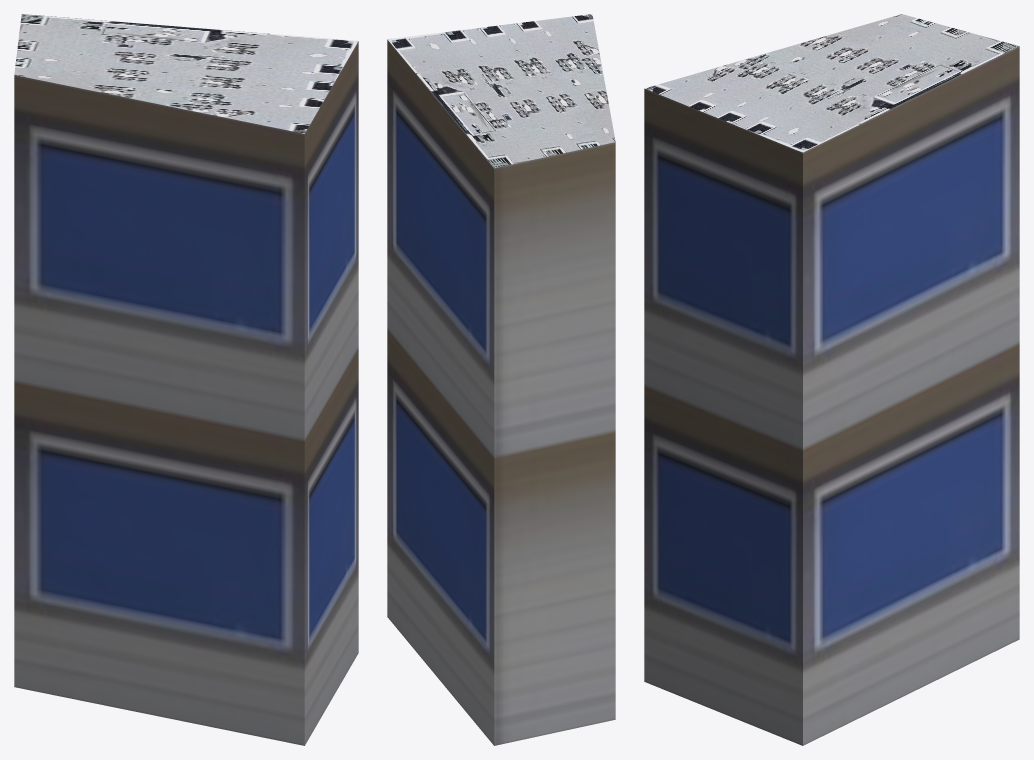
File: ResTex__552.fbx
3 renders of one model, left to right at view 1: azimuth 30°, elevation 25°; view 2: azimuth 150°, elevation 25°; view 3: azimuth 270°, elevation 25°, orthographic. The views are drawn at different scales.
Visible parts, largest first — view 1: CityEngineMaterial_23_m, CityEngineMaterial_8_m; view 2: CityEngineMaterial_23_m, CityEngineMaterial_8_m; view 3: CityEngineMaterial_23_m, CityEngineMaterial_8_m.
Part boxes in pixels (x1,y1,x2,y2): CityEngineMaterial_23_m: (14,41,358,745); CityEngineMaterial_8_m: (14,14,358,133); CityEngineMaterial_23_m: (387,40,615,745); CityEngineMaterial_8_m: (387,14,615,168); CityEngineMaterial_23_m: (644,46,1019,745); CityEngineMaterial_8_m: (644,14,1019,152).
Size of the model in its own units: 3.01 by 6 by 3.44.
Materials: 2 (2 with a texture image).
